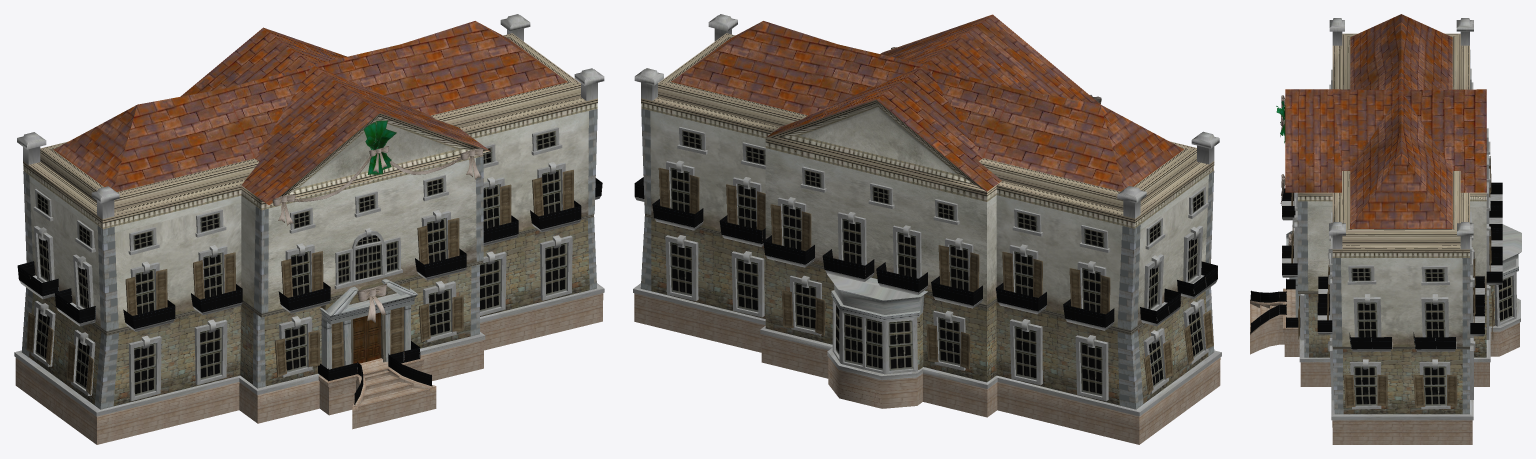
File: english_mansion.fbx
3 renders of one model, left to right at view 1: azimuth 30°, elevation 25°; view 2: azimuth 150°, elevation 25°; view 3: azimuth 270°, elevation 25°, orthographic. The views are drawn at different scales.
Visible parts, largest first — view 1: building_shell10, brick_edges_top, brick_edges_bottom, window_arched, stairs_front, window_d_025, window_d_023, window_d_022, stairs_front1, window_d_024, window_d_014, window_d_015 (+23 smaller); view 2: building_shell10, window_bay, brick_edges_top, brick_edges_bottom, window_d_020, window_d_021, window_d_019, window_d_018, window_d_06, window_d_011, window_d_035, window_d_036 (+23 smaller); view 3: building_shell10, brick_edges_top, brick_edges_bottom, window_d_013, window_d_012, window_d_040, window_d_041, stairs_front, window_bay, stairs_front_railing, window_c_015, window_c_016 (+12 smaller).
Part boxes in pixels (x1,y1,x2,y2): building_shell10: [14, 14, 604, 444]; brick_edges_top: [23, 109, 597, 331]; brick_edges_bottom: [22, 217, 596, 409]; window_arched: [334, 228, 402, 289]; stairs_front: [352, 368, 436, 429]; window_d_025: [540, 235, 572, 300]; window_d_023: [194, 320, 227, 384]; window_d_022: [129, 336, 161, 401]; stairs_front1: [358, 370, 429, 410]; window_d_024: [480, 251, 506, 315]; window_d_014: [423, 281, 456, 342]; window_d_015: [279, 316, 312, 377]; building_shell10: [633, 14, 1221, 444]; window_bay: [832, 298, 917, 374]; brick_edges_top: [641, 108, 1214, 330]; brick_edges_bottom: [640, 216, 1214, 409]; window_d_020: [665, 235, 698, 300]; window_d_021: [731, 251, 764, 317]; window_d_019: [1075, 335, 1108, 401]; window_d_018: [1009, 319, 1042, 385]; window_d_06: [933, 311, 965, 370]; window_d_011: [789, 276, 821, 335]; window_d_035: [837, 212, 866, 265]; window_d_036: [893, 225, 921, 278]; building_shell10: [1283, 14, 1521, 444]; brick_edges_top: [1297, 50, 1470, 346]; brick_edges_bottom: [1304, 294, 1469, 414]; window_d_013: [1350, 362, 1381, 409]; window_d_012: [1419, 362, 1450, 409]; window_d_040: [1353, 297, 1381, 337]; window_d_041: [1421, 297, 1448, 337]; stairs_front: [1250, 299, 1284, 354]; window_bay: [1494, 272, 1516, 326]; stairs_front_railing: [1251, 279, 1297, 330]; window_c_015: [1347, 265, 1376, 284]; window_c_016: [1421, 266, 1449, 285].
Bounding box in the file's own units: 15761 × 8434 × 8215.
Materials: 3 (3 with a texture image).
